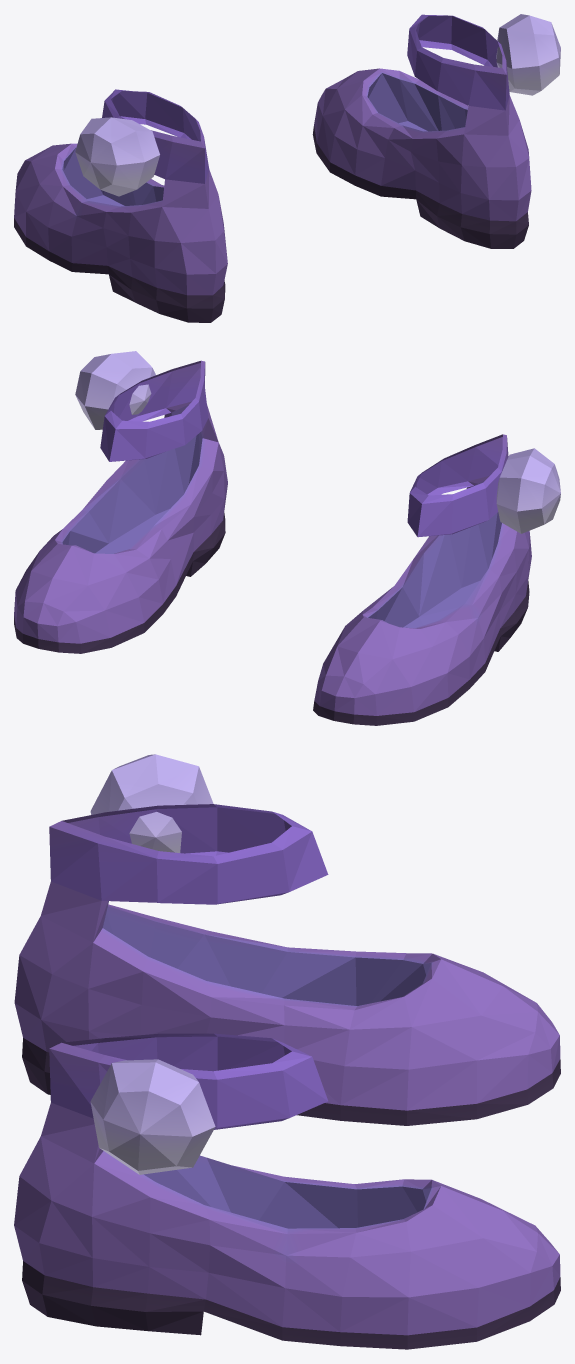
File: CharSkyKid_Feet_AP32PearlShoes.glb
3 views of the same model, one above another, from view 1: azimuth 30°, elevation 25°; view 2: azimuth 150°, elevation 25°; view 3: azimuth 270°, elevation 25° (orthographic). The views are drawn at different scales.
Parts seen in each view (by area): view 1: CharSkyKid_Feet_AP32PearlShoes; view 2: CharSkyKid_Feet_AP32PearlShoes; view 3: CharSkyKid_Feet_AP32PearlShoes.
Part boxes in pixels (<box>): CharSkyKid_Feet_AP32PearlShoes: <box>14,14,560,322</box>; CharSkyKid_Feet_AP32PearlShoes: <box>14,351,560,725</box>; CharSkyKid_Feet_AP32PearlShoes: <box>14,754,560,1349</box>.
Size of the model in its own units: 2.82 by 1.09 by 1.89.
1 material, 1 textured.
